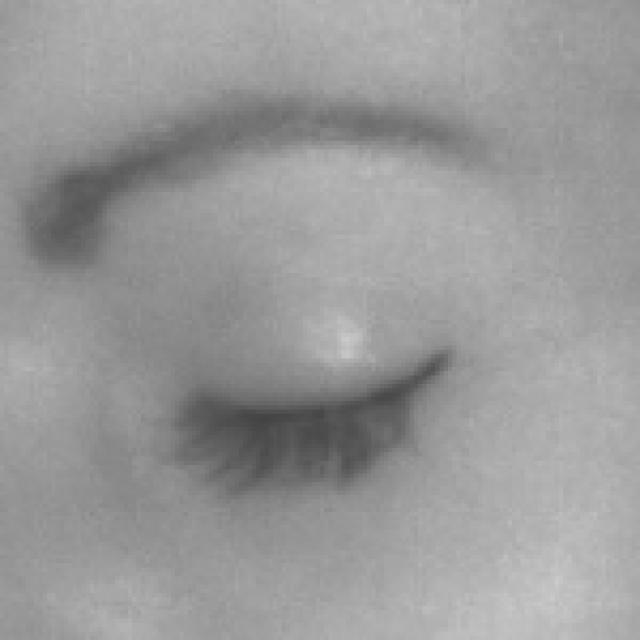close: (0, 70, 564, 544)
